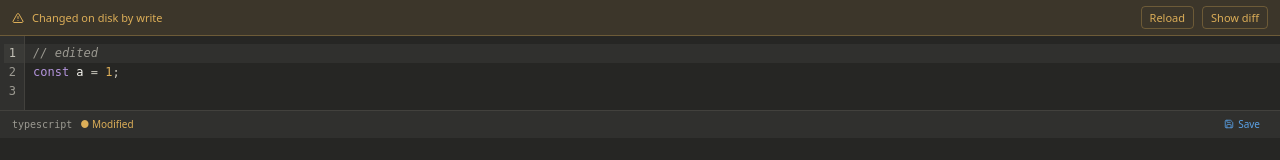
Scenario: CodePanel external changes › replaces the buffer with the disk copy when Reload is clicked
Click the button "Reload" at (1167, 18), box top-left (1141, 6), bottom-right (1194, 29)
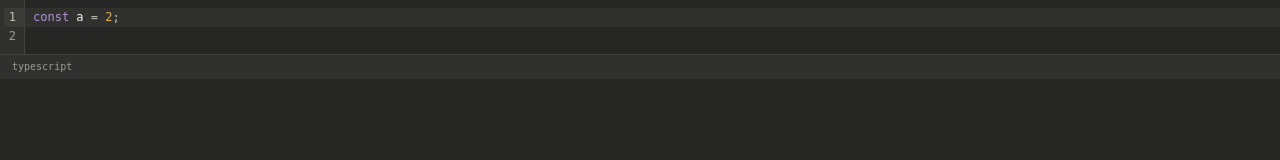
expect the element with test id "code-external-change" is gone: met
